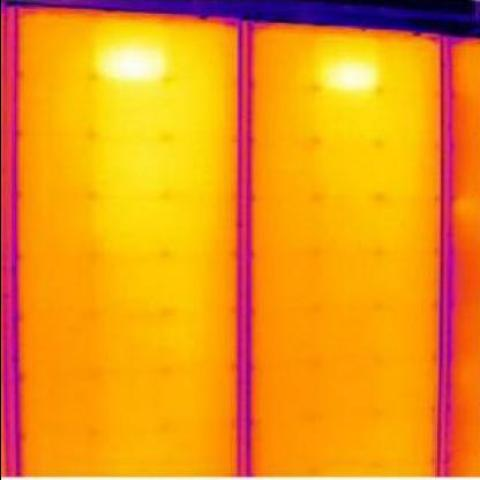fault: (97, 48, 160, 78), (321, 64, 382, 92)
